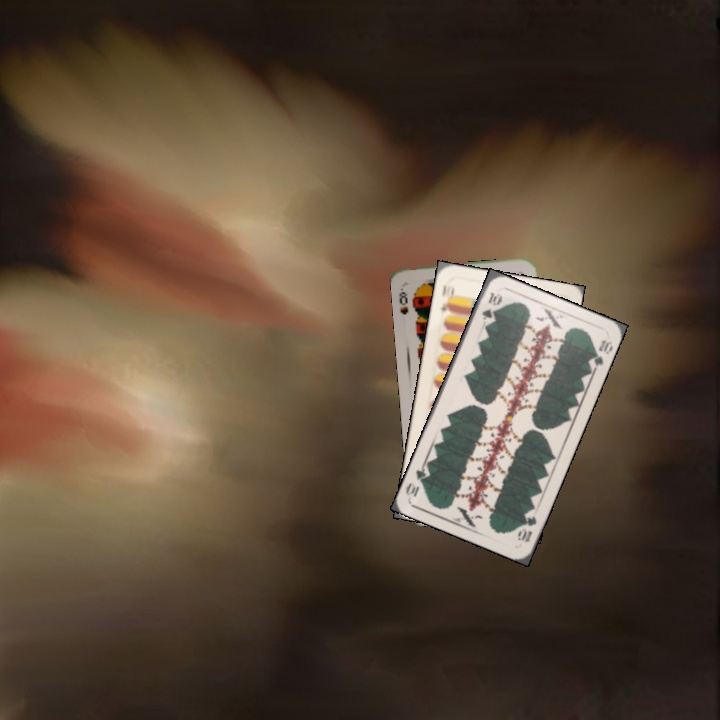E10: (437, 280, 457, 316)
G10: (513, 512, 540, 545), (478, 288, 504, 322)
S8: (395, 284, 411, 317)
